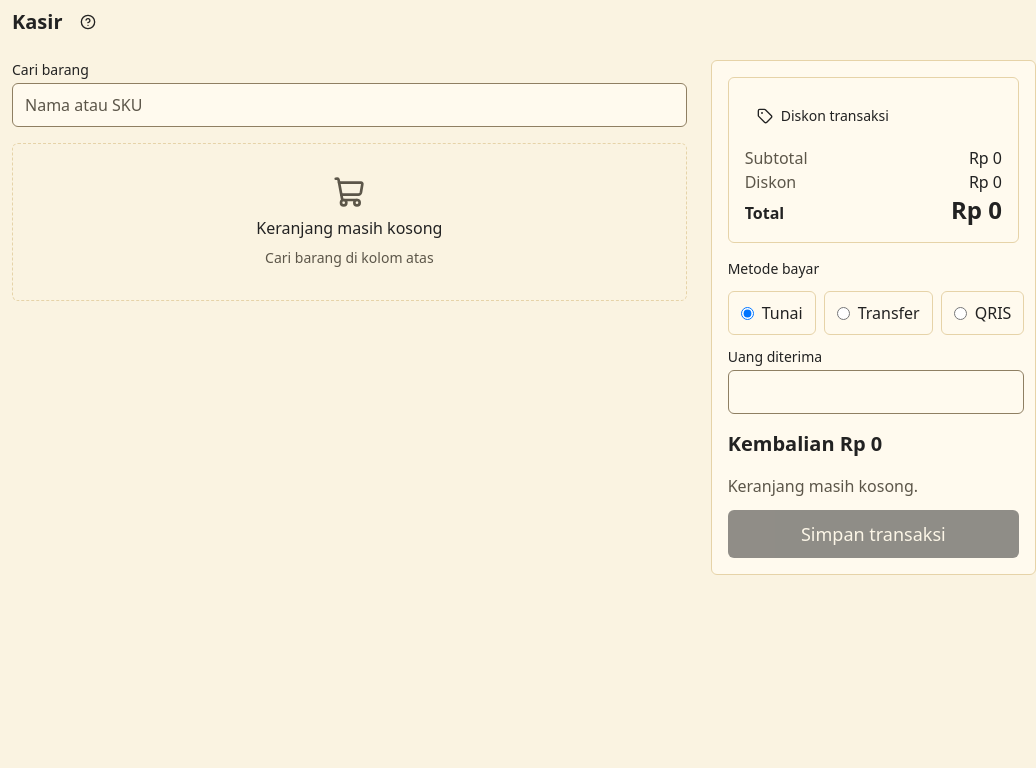
Test: CashierPage › uang kurang: pesan kekurangan tampil dan simpan nonaktif
The width and height of the screenshot is (1036, 768).
In the search field labelled "Cari barang": (349, 105) [12,83,687,127], type "beras"
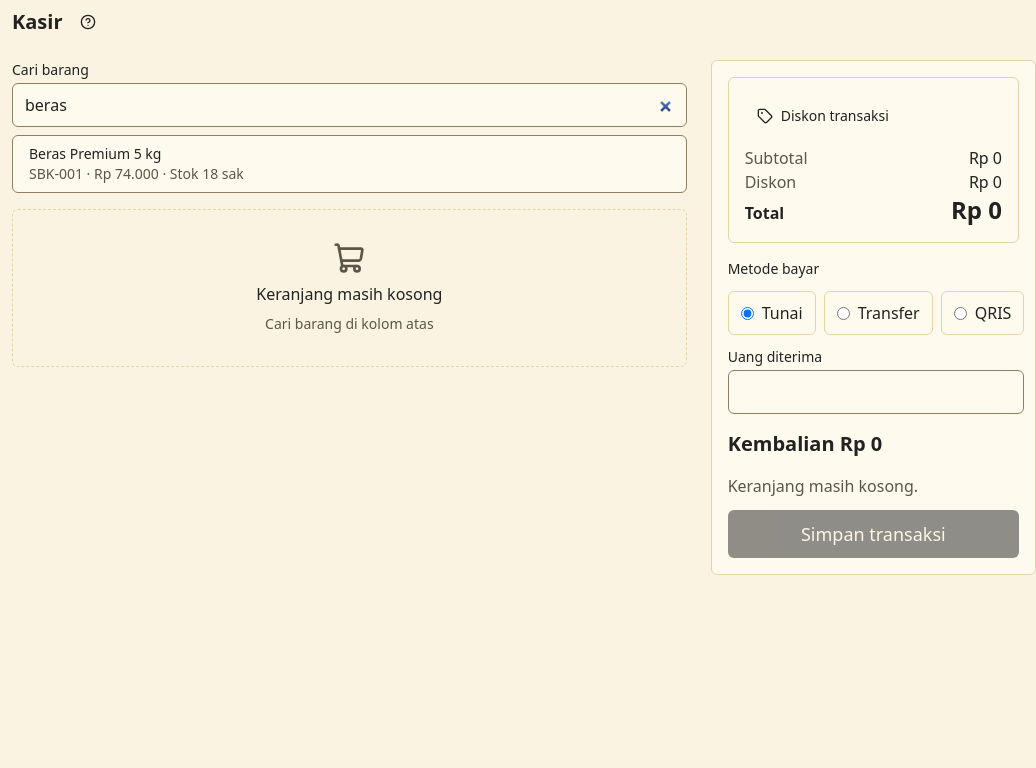
Click the button "Beras Premium 5 kg SBK-001 · Rp 74.000 · Stok 18 sak": (95, 154) [12,135,687,193]
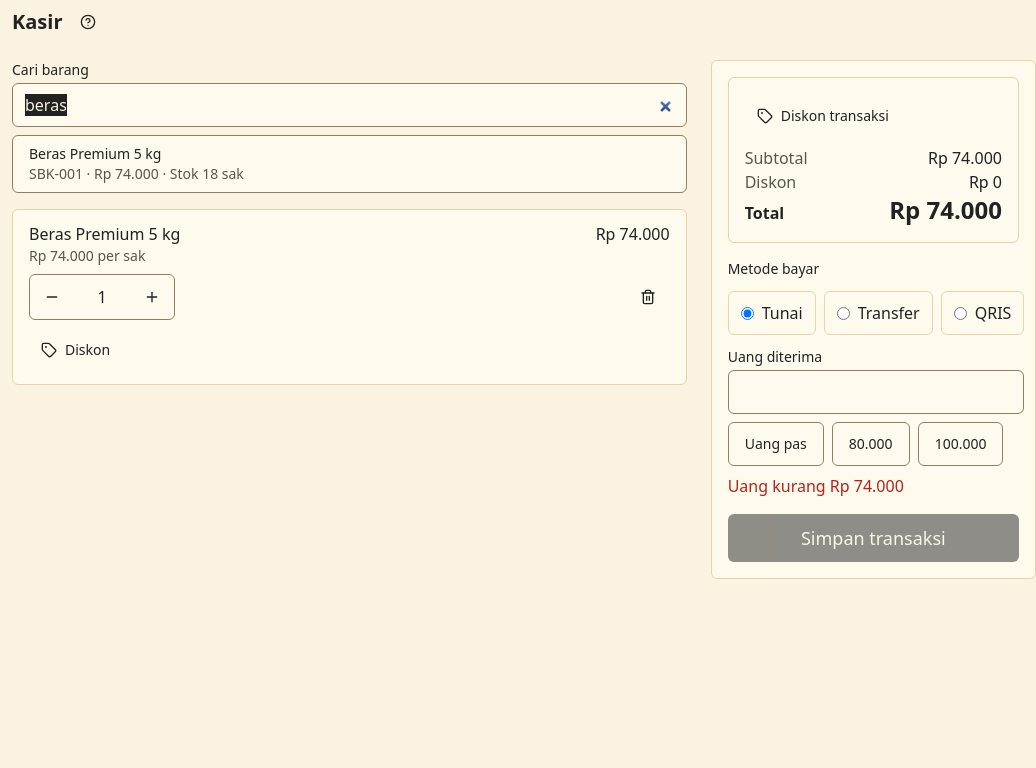
In the field labelled "Uang diterima": (876, 392) [728,370,1024,414], type "50000"
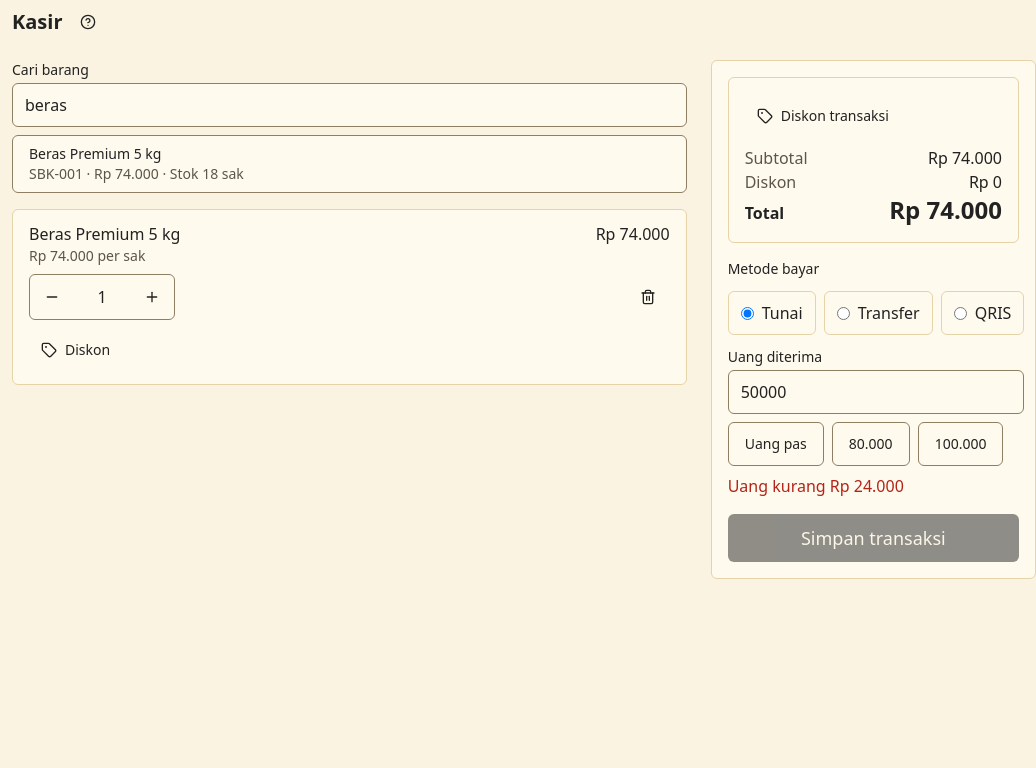
Expected: the button "Simpan transaksi" is disabled, [728,514,1019,562]
Result: the text "Uang kurang Rp 24.000" is shown at [728,475,904,497]
